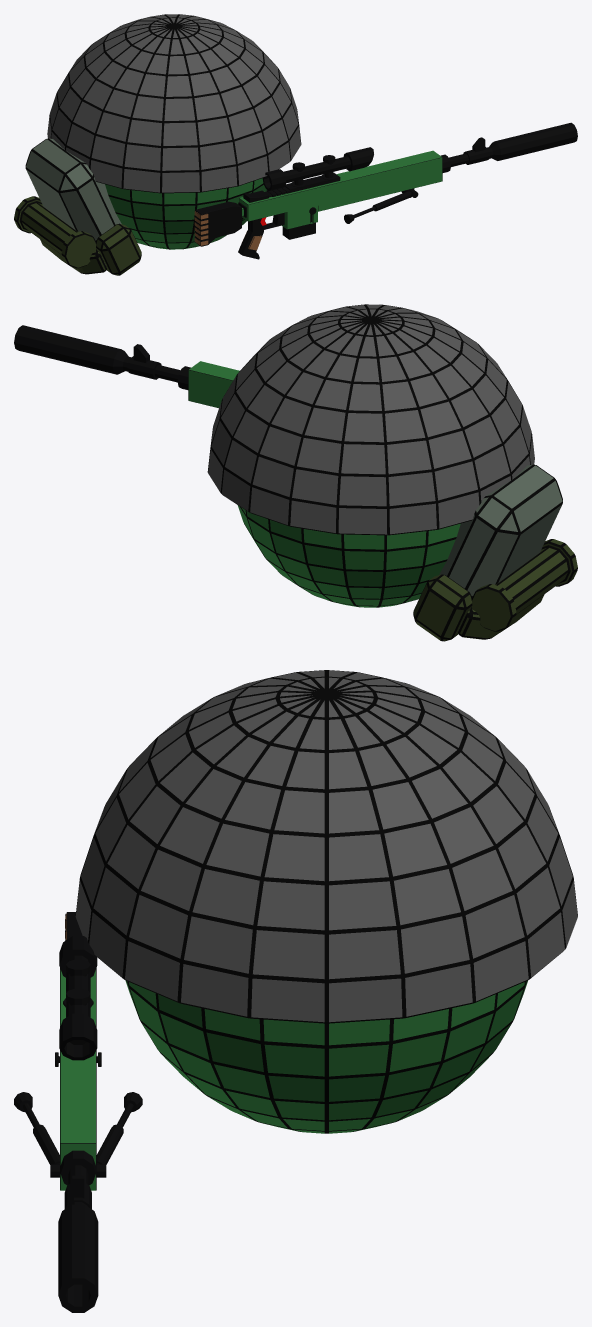
Rendered from SniperSoldiers.fbx.
The picture shows the model from 3 angles, top to bottom: view 1: azimuth 30°, elevation 25°; view 2: azimuth 150°, elevation 25°; view 3: azimuth 270°, elevation 25°; orthographic projection. The views are drawn at different scales.
Visible parts, largest first — view 1: Sphere.002, Cube.001, SniperGun, SniperSilencer, SniperScope, SniperBarrel, SniperScope1, SniperGun2, SniperGunMagazine; view 2: Sphere.002, Cube.001, SniperSilencer, SniperGun, SniperBarrel; view 3: Sphere.002, SniperGun, SniperSilencer, SniperScope, SniperGun2, SniperBarrel, SniperScope1.
Part boxes in pixels (x1=…): Sphere.002: x1=47, y1=14, x2=301, y2=249; Cube.001: x1=14, y1=138, x2=141, y2=275; SniperGun: x1=194, y1=150, x2=442, y2=259; SniperSilencer: x1=487, y1=122, x2=577, y2=160; SniperScope: x1=262, y1=147, x2=373, y2=190; SniperBarrel: x1=440, y1=137, x2=489, y2=172; SniperScope1: x1=285, y1=155, x2=340, y2=192; SniperGun2: x1=344, y1=189, x2=418, y2=223; SniperGunMagazine: x1=282, y1=214, x2=315, y2=239; Sphere.002: x1=207, y1=304, x2=534, y2=607; Cube.001: x1=413, y1=464, x2=577, y2=641; SniperSilencer: x1=14, y1=325, x2=130, y2=374; SniperGun: x1=188, y1=361, x2=239, y2=408; SniperBarrel: x1=127, y1=344, x2=190, y2=389; Sphere.002: x1=75, y1=670, x2=577, y2=1133; SniperGun: x1=55, y1=912, x2=101, y2=1190; SniperSilencer: x1=58, y1=1202, x2=98, y2=1312; SniperScope: x1=59, y1=936, x2=97, y2=1060; SniperGun2: x1=14, y1=1092, x2=142, y2=1177; SniperBarrel: x1=60, y1=1150, x2=95, y2=1209; SniperScope1: x1=63, y1=959, x2=93, y2=1017.
Bounding box in the file's own units: 503 × 217 × 265.
